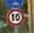limite 10: (7, 8, 24, 26)
